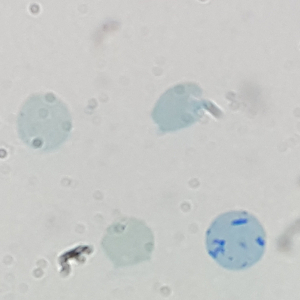aggregate reticulocyte: (203, 208, 269, 272)
erythrocyte: (150, 80, 212, 134), (99, 215, 156, 270)
punctate reticulocyte: (15, 92, 73, 153)
